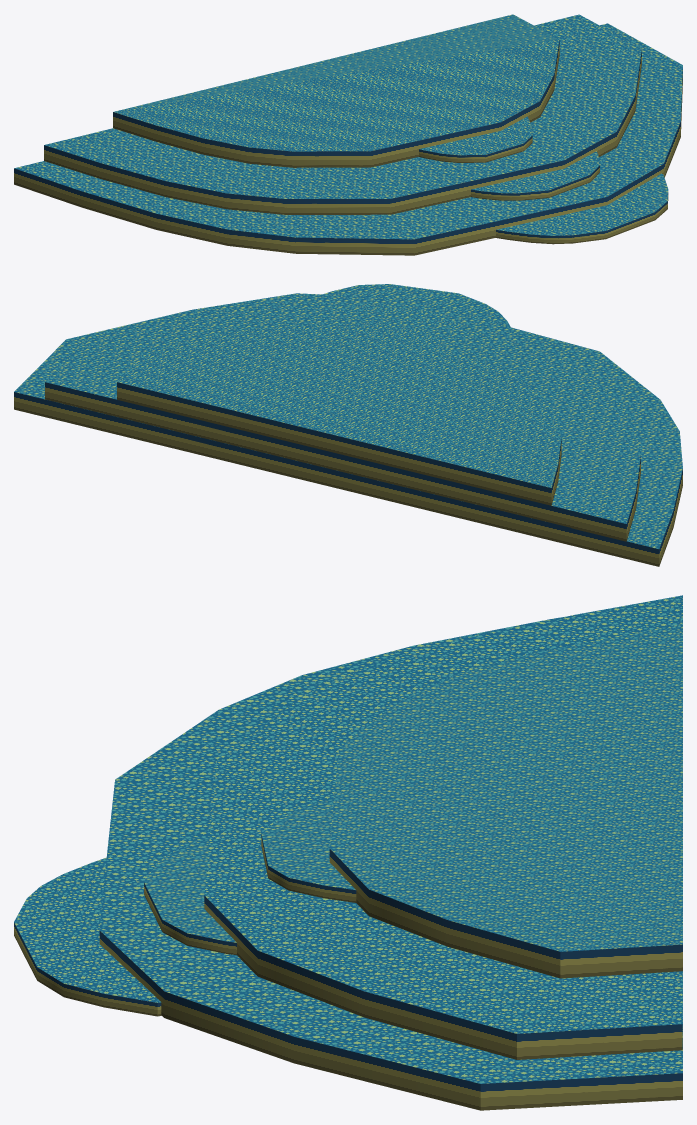
Rendered from cap_observatory_hills.fbx.
3 renders of one model, top to bottom at view 1: azimuth 30°, elevation 25°; view 2: azimuth 150°, elevation 25°; view 3: azimuth 270°, elevation 25°, orthographic. The views are drawn at different scales.
Parts seen in each view (by area): view 1: polySurface62, polySurface63, polySurface64, polySurface67, polySurface66, polySurface65; view 2: polySurface62, polySurface63, polySurface64, polySurface67, polySurface65, polySurface66; view 3: polySurface62, polySurface63, polySurface64, polySurface67, polySurface65, polySurface66.
Boxes of the visible parts, bbox=[...] form: polySurface62: bbox=[113, 14, 559, 167]; polySurface63: bbox=[44, 14, 641, 214]; polySurface64: bbox=[14, 23, 682, 255]; polySurface67: bbox=[496, 173, 668, 244]; polySurface66: bbox=[471, 151, 599, 200]; polySurface65: bbox=[419, 116, 532, 162]; polySurface62: bbox=[117, 324, 561, 505]; polySurface63: bbox=[45, 303, 640, 541]; polySurface64: bbox=[14, 293, 682, 566]; polySurface67: bbox=[323, 284, 510, 327]; polySurface65: bbox=[341, 321, 447, 350]; polySurface66: bbox=[347, 304, 468, 332]; polySurface62: bbox=[329, 624, 682, 978]; polySurface63: bbox=[204, 595, 682, 1059]; polySurface64: bbox=[99, 617, 682, 1110]; polySurface67: bbox=[14, 857, 161, 1016]; polySurface65: bbox=[261, 798, 356, 902]; polySurface66: bbox=[144, 836, 236, 955].
Size of the model in its own units: 64.63 by 4.95 by 37.56.
